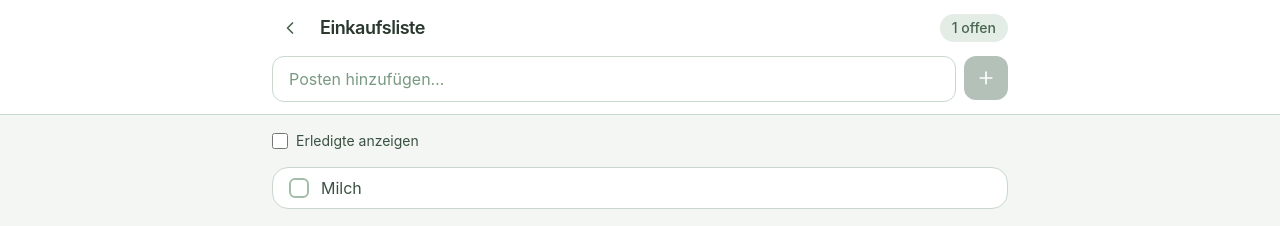
Test case: Einkaufsliste-Detailseite › undoes a checkbox tap within the grace period without submitting
Click the button named "Milch abhaken".
click(299, 188)  # box [289,178,309,198]
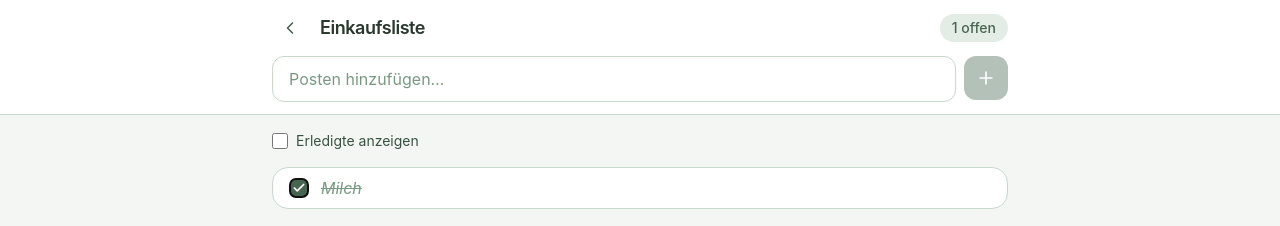
Check: the button named "Milch doch nicht abhaken" is shown
Click the button named "Milch doch nicht abhaken".
click(299, 188)  # box [289,178,309,198]
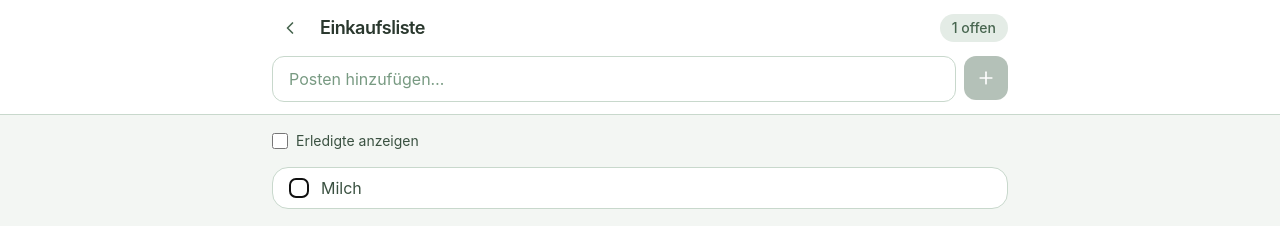
Check: the text "1 offen" is shown, box [940,14,1008,42]
Check: the button named "Milch abhaken" is shown, box [289,178,309,198]
